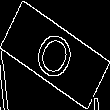O_SW: (30, 22, 80, 88)
